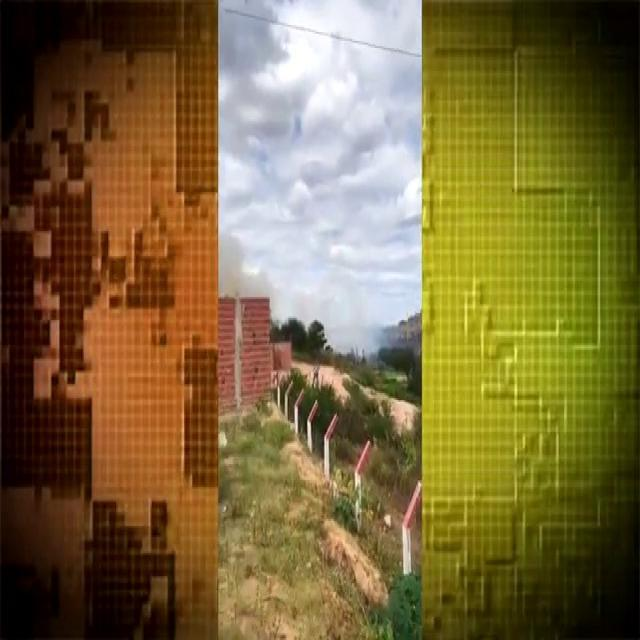Smoke: (307, 278, 383, 351), (221, 234, 289, 305)
